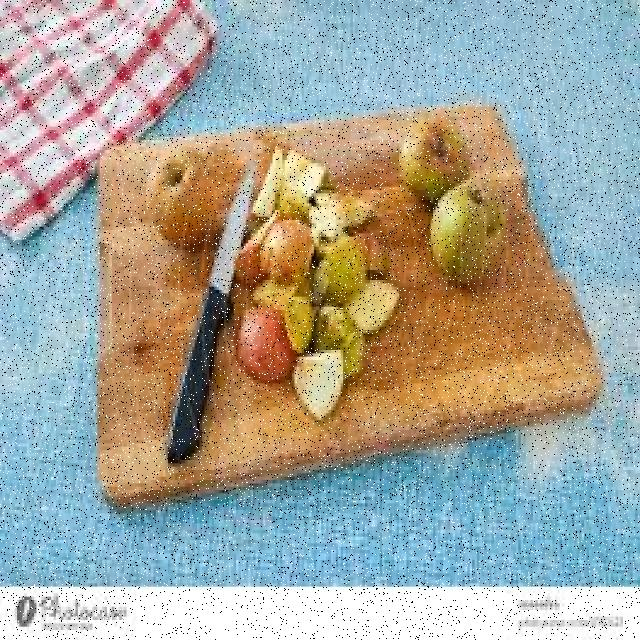Apple: (430, 192, 510, 283), (149, 147, 220, 242), (402, 115, 472, 194), (238, 313, 296, 382), (296, 354, 346, 418), (315, 244, 369, 302), (262, 223, 312, 275), (236, 204, 264, 280), (352, 287, 398, 331), (255, 146, 280, 217)
